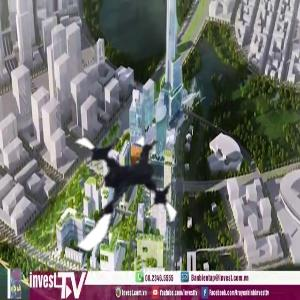drone: (45, 122, 186, 263)
